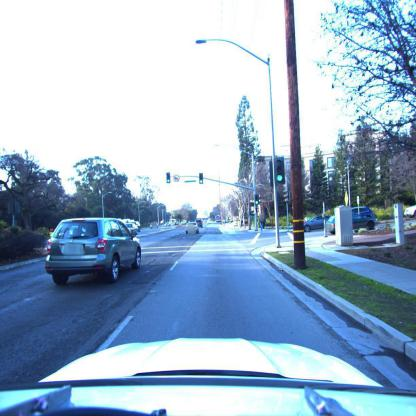car: (46, 217, 142, 286), (328, 206, 376, 234), (304, 216, 327, 232), (122, 220, 140, 235), (402, 203, 416, 219), (185, 222, 200, 235)
traffic light: (274, 160, 284, 188), (173, 173, 180, 184), (165, 172, 171, 184), (198, 173, 204, 184), (184, 180, 196, 184)
